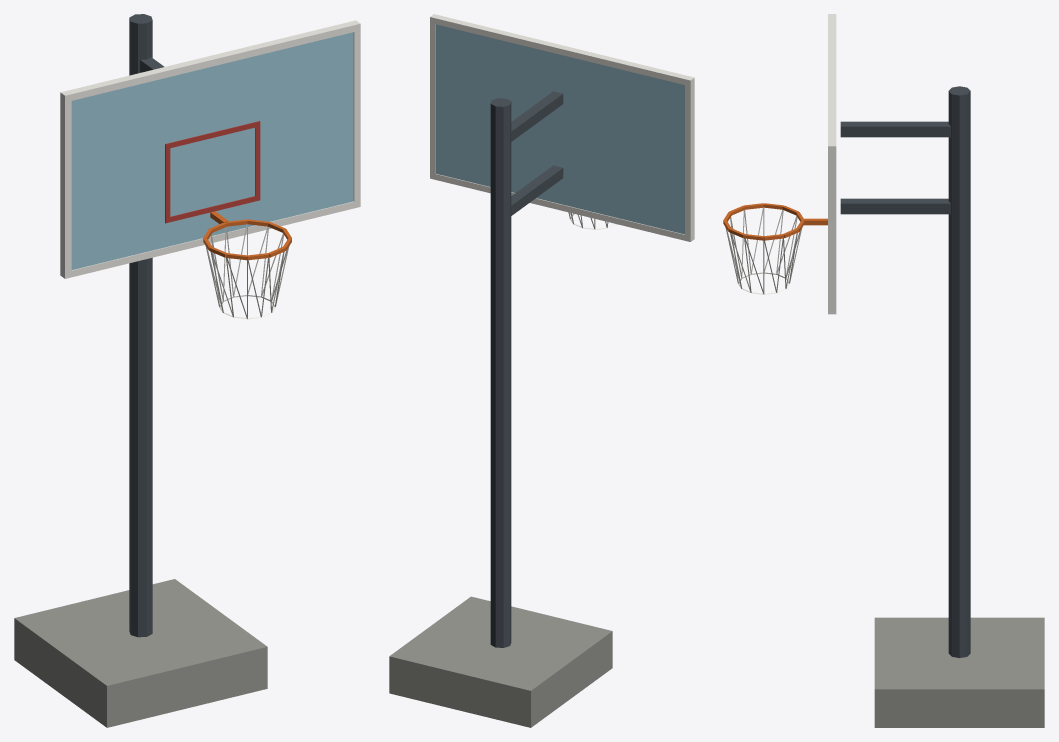
Rendered from GS_BasketballHoop_01.glb.
3 views of the same model, side by side, from view 1: azimuth 30°, elevation 25°; view 2: azimuth 150°, elevation 25°; view 3: azimuth 270°, elevation 25° (orthographic). The views are drawn at different scales.
Visible parts, largest first — view 1: GS_BasketballHoop_01; view 2: GS_BasketballHoop_01; view 3: GS_BasketballHoop_01.
Boxes of the visible parts, x1,y1,x2,y2 form: GS_BasketballHoop_01: (14, 14, 360, 727); GS_BasketballHoop_01: (389, 14, 694, 727); GS_BasketballHoop_01: (723, 14, 1044, 727).
Bounding box in the file's own units: 1.84 × 3.97 × 1.89.
Materials: 1 (1 with a texture image).
